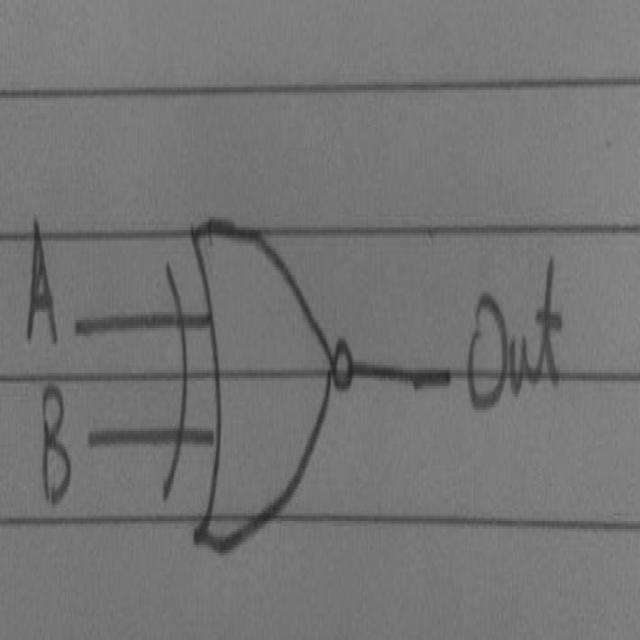XNOR: (152, 168, 353, 590)
